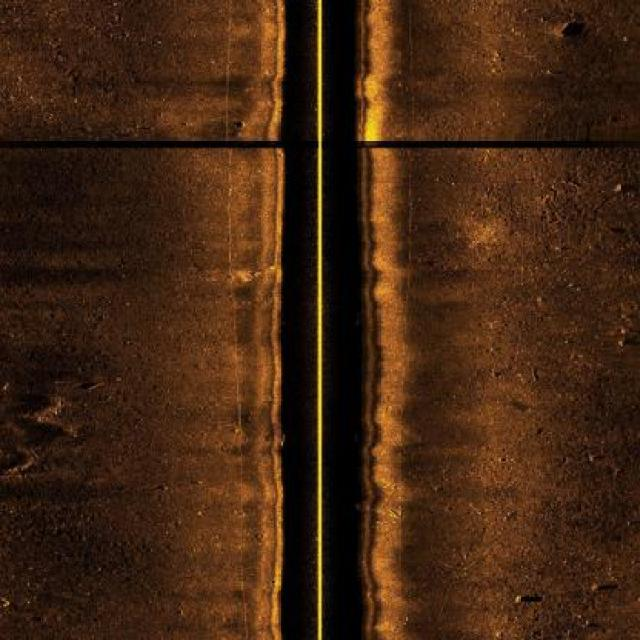mine: (69, 377, 108, 392), (514, 592, 544, 608)
other: (556, 18, 589, 39)
